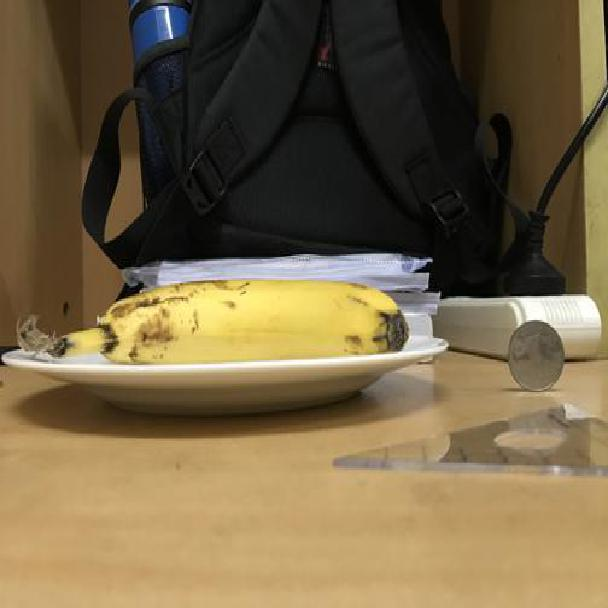banana: (13, 281, 411, 358)
